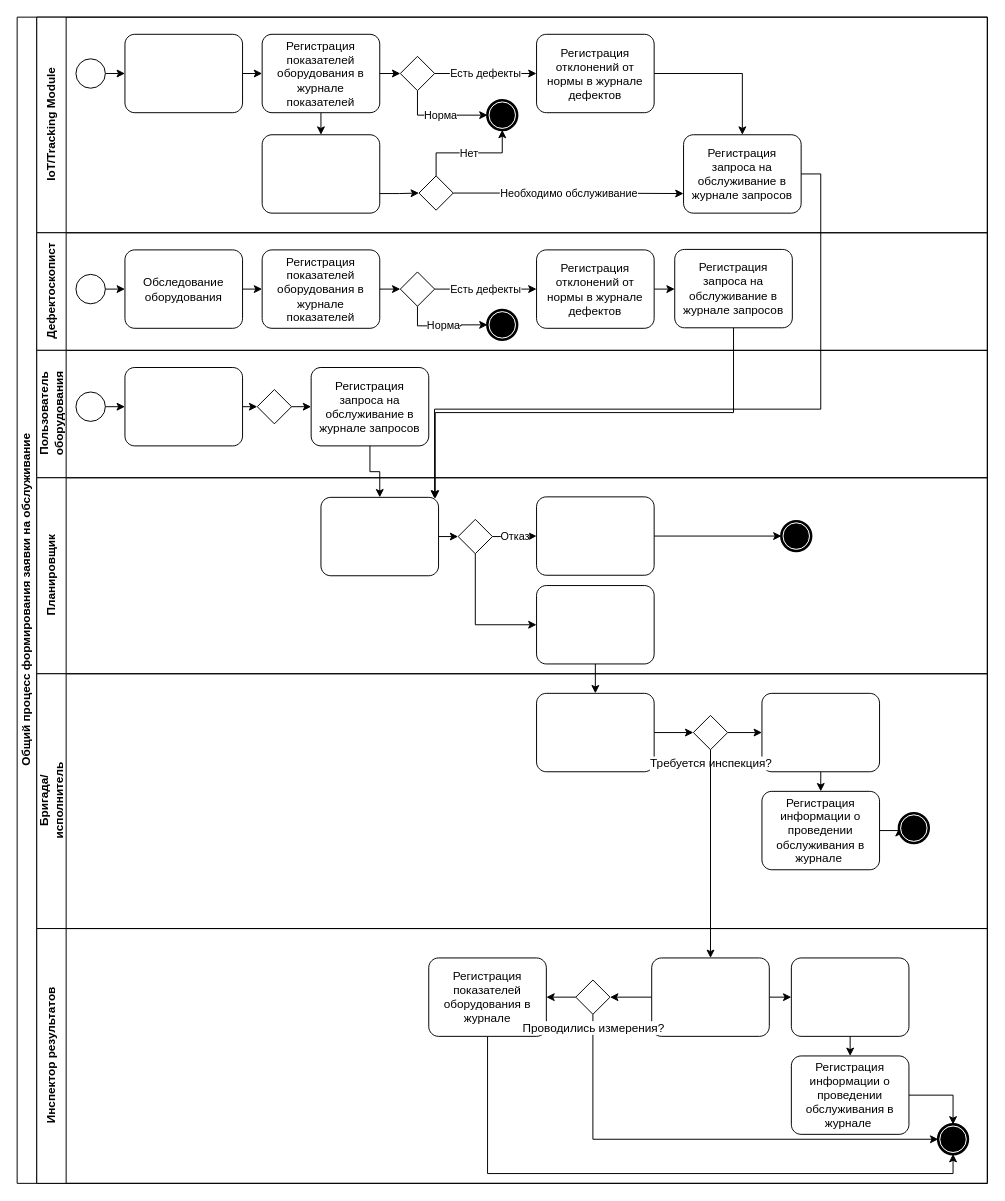
Some shapes in this 1005 by 1201 pixel diagram are drawn without their labels. The shapes that lost their labels are listed below. From the top down, each one's centre as x and y in pixels, then its label:
point (183, 73): Определение показателей оборудования
point (320, 173): Проверка правил по регламенту обслуживания
point (183, 406): Ежедневный осмотр оборудования
point (379, 536): Определение приоритета, необходимости и т.д. проведение обслуживания
point (595, 535): Регистрация отказа на обслуживание в журнале запросов на обслуживание
point (595, 624): Формирование наряда-задания на обслуживание
point (595, 732): Исполнение наряд-задания
point (820, 732): Регистрация информации о выполнении запроса на обслуживание
point (710, 996): Проведение инспекции
point (849, 996): Регистрация информации о выполнении запроса на обслуживание в журнале
